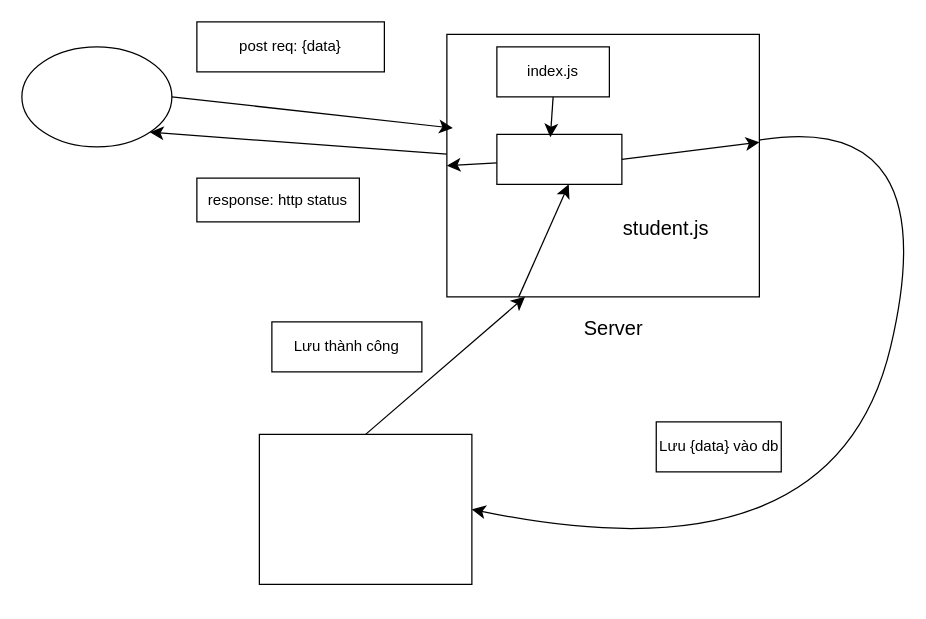
The diagram is 926 pixels wide and 619 high, and some of its shapes have lost their labels. Here are the shapes that lost their labels. From the top down, the box of each, then its label:
(21, 46, 172, 147): Nút thêm mới học sinh
(496, 133, 622, 184): post api
(258, 433, 472, 584): Database
